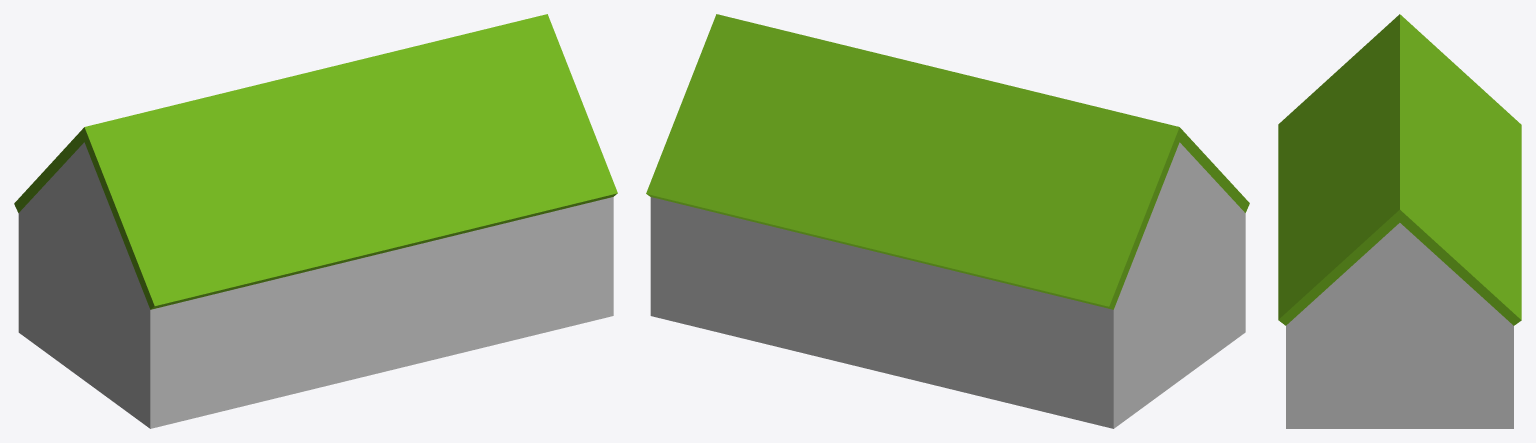
The model's file is house_3.fbx.
3 renders of one model, left to right at view 1: azimuth 30°, elevation 25°; view 2: azimuth 150°, elevation 25°; view 3: azimuth 270°, elevation 25°, orthographic. The views are drawn at different scales.
Parts seen in each view (by area): view 1: Cube.010; view 2: Cube.010; view 3: Cube.010.
Boxes of the visible parts, box(x1,y1,x2,y2) form: Cube.010: box(14, 14, 617, 428); Cube.010: box(646, 14, 1249, 428); Cube.010: box(1278, 14, 1521, 428).
Bounding box in the file's own units: 154 × 80.57 × 81.02.
